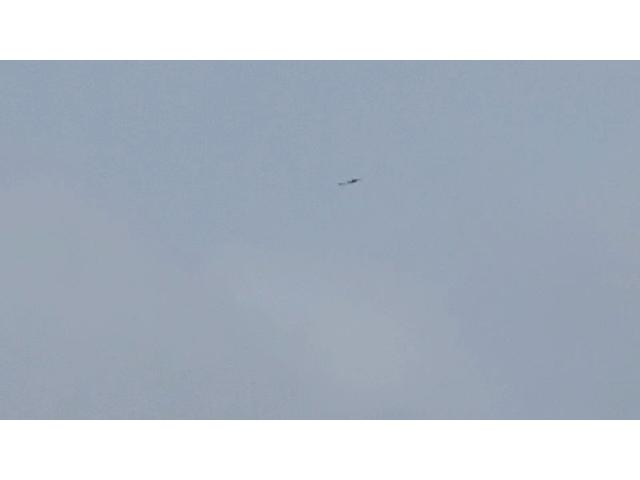Anti-Drone: (336, 176, 364, 187)
